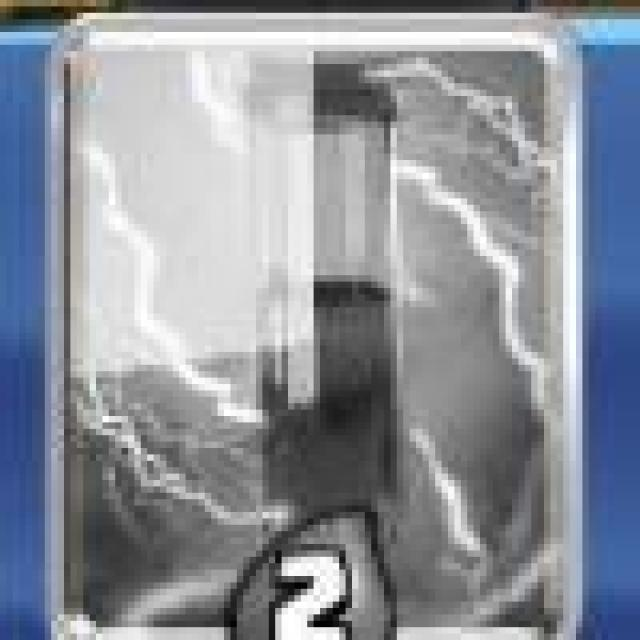Zap: (56, 20, 582, 640)
